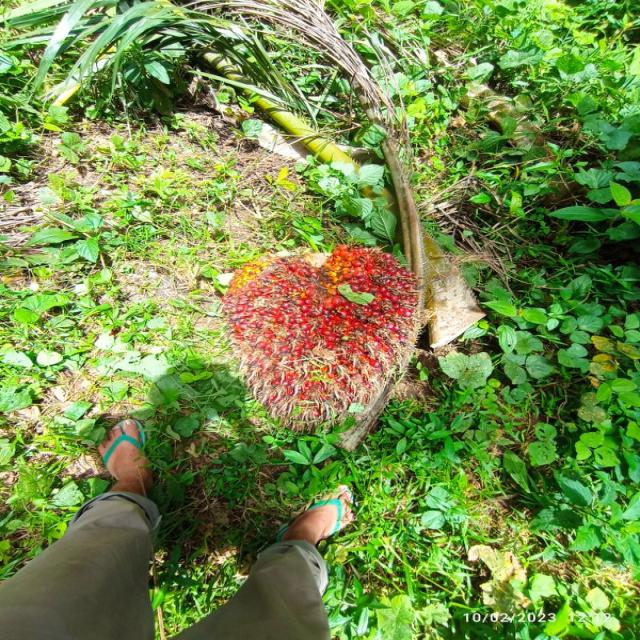fraksi 3: (180, 209, 442, 460)
